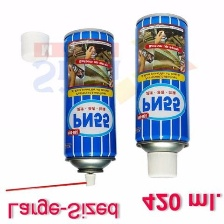aerosol_cans: (131, 11, 191, 185), (58, 25, 119, 189)
